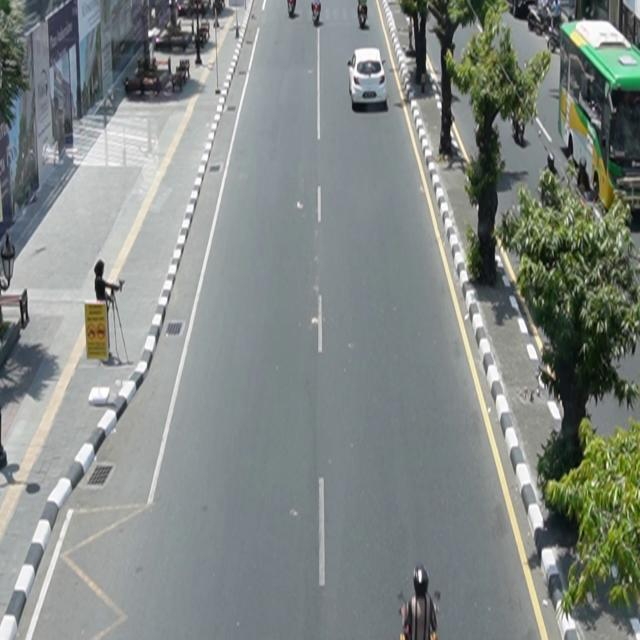bus: (558, 18, 640, 219)
car: (348, 47, 388, 109)
